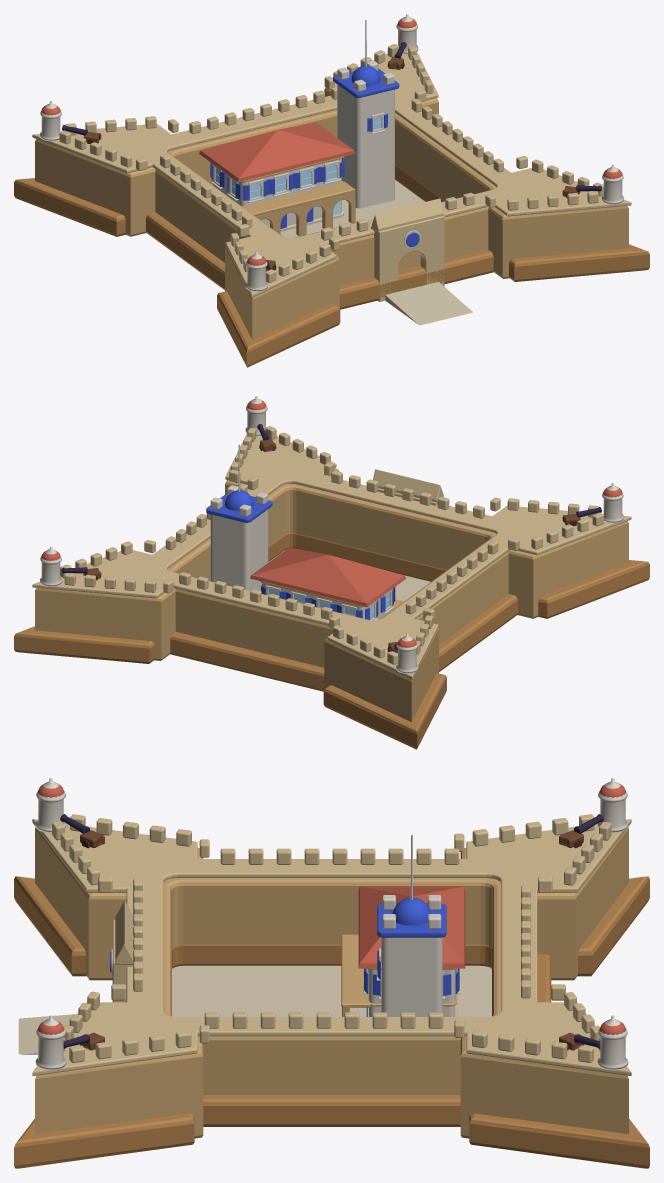
Rendered from fortaleza.glb.
The picture shows the model from 3 angles, top to bottom: view 1: azimuth 30°, elevation 25°; view 2: azimuth 150°, elevation 25°; view 3: azimuth 270°, elevation 25°; orthographic projection. The views are drawn at different scales.
Parts seen in each view (by area): view 1: fortaleza_corpo, fortaleza_vidro; view 2: fortaleza_corpo; view 3: fortaleza_corpo.
Boxes of the visible parts, x1,y1,x2,y2 form: fortaleza_corpo: [14, 14, 649, 367]; fortaleza_vidro: [216, 116, 381, 220]; fortaleza_corpo: [14, 396, 649, 749]; fortaleza_corpo: [14, 778, 649, 1168].
Size of the model in its own units: 47.73 by 20.23 by 47.73.
